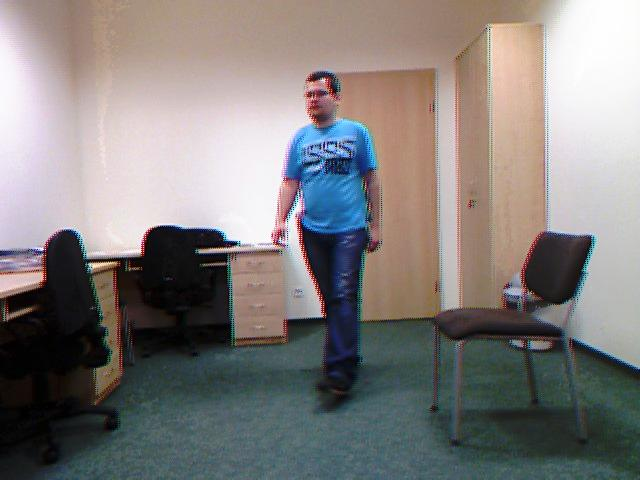fall: (268, 58, 393, 407)
